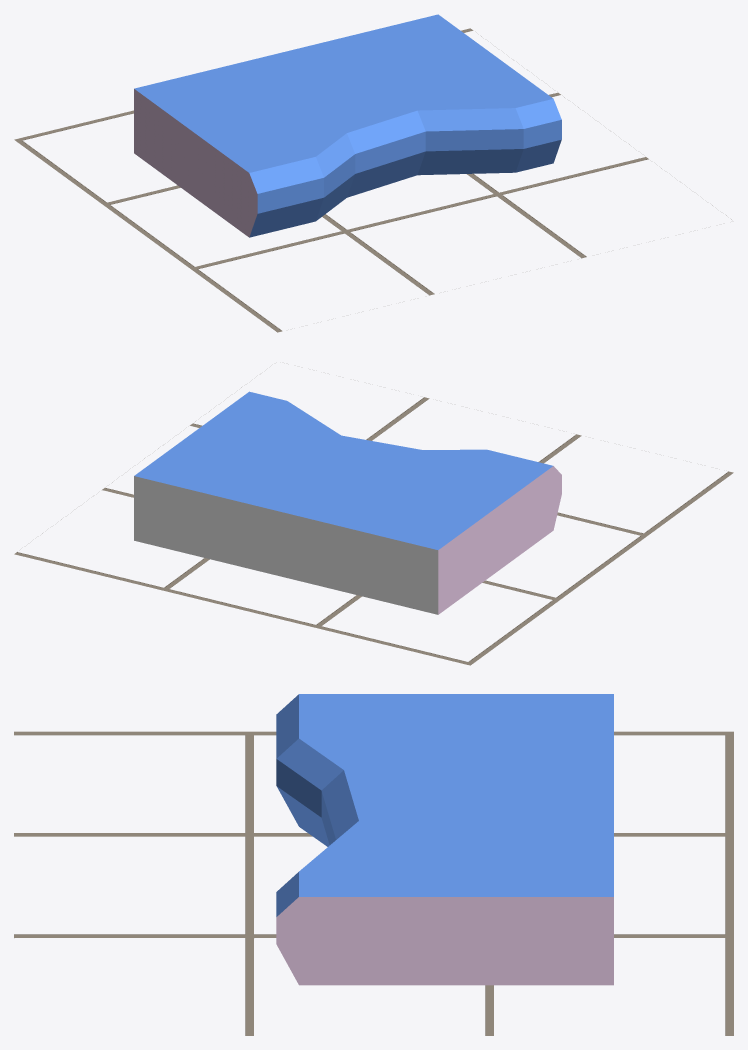
The model's file is Iceberg_Straight_2x2_3.glb.
3 views of the same model, one above another, from view 1: azimuth 30°, elevation 25°; view 2: azimuth 150°, elevation 25°; view 3: azimuth 270°, elevation 25° (orthographic). The views are drawn at different scales.
Visible parts, largest first — view 1: Iceberg_Straight_2x2_3, Floor; view 2: Iceberg_Straight_2x2_3, Floor; view 3: Iceberg_Straight_2x2_3, Floor.
Part boxes in pixels (left/top/right/bottom): Iceberg_Straight_2x2_3: left=134, top=14, right=561, bottom=237; Floor: left=14, top=28, right=731, bottom=332; Iceberg_Straight_2x2_3: left=134, top=391, right=561, bottom=614; Floor: left=14, top=387, right=733, bottom=665; Iceberg_Straight_2x2_3: left=276, top=694, right=613, bottom=985; Floor: left=14, top=731, right=733, bottom=1035.
Bounding box in the file's own units: 300 × 40.63 × 300.
4 materials, 1 textured.
